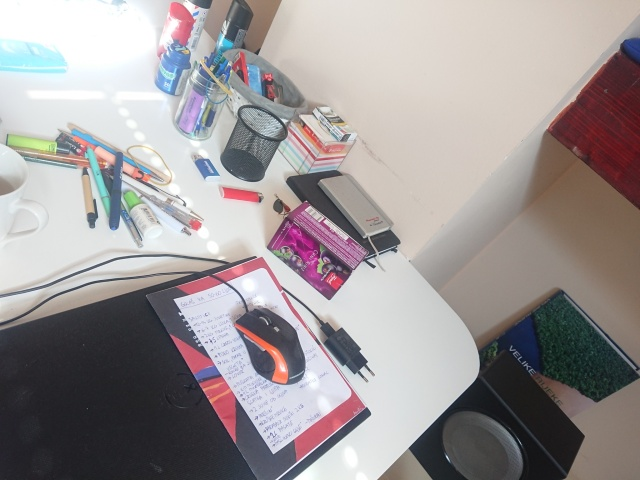Franck Black Currant Tea 60g: (265, 199, 371, 302)
